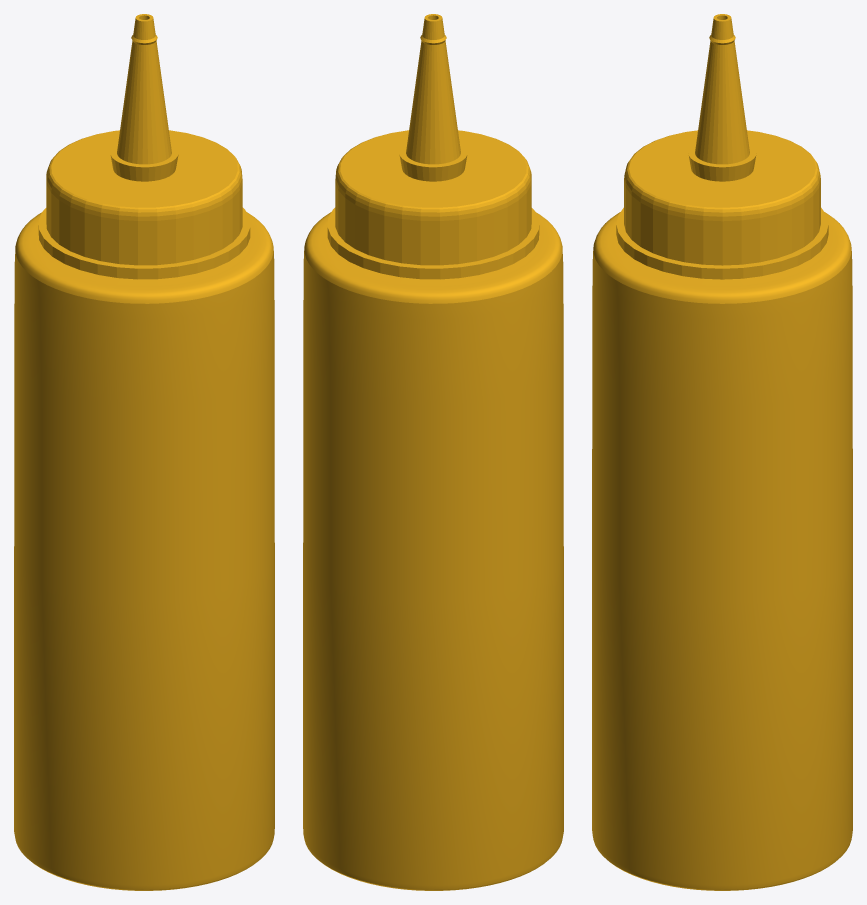
The model's file is mustard.glb.
3 views of the same model, side by side, from view 1: azimuth 30°, elevation 25°; view 2: azimuth 150°, elevation 25°; view 3: azimuth 270°, elevation 25° (orthographic).
Visible parts, largest first — view 1: mustard_bottle; view 2: mustard_bottle; view 3: mustard_bottle.
Boxes of the visible parts, left/top/right/bottom form: mustard_bottle: left=14, top=14, right=274, bottom=890; mustard_bottle: left=303, top=14, right=563, bottom=890; mustard_bottle: left=592, top=14, right=852, bottom=890.
Bounding box in the file's own units: 113 × 391 × 113.
